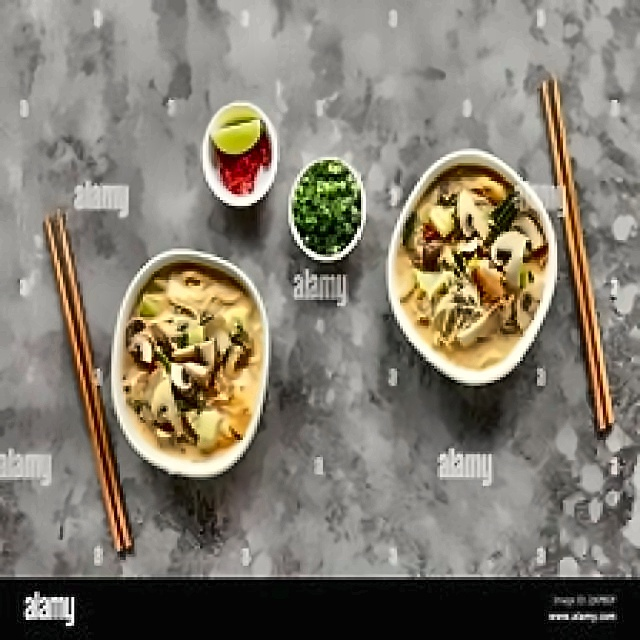lime_wedge: (211, 100, 263, 152)
noodle: (148, 266, 262, 316)
